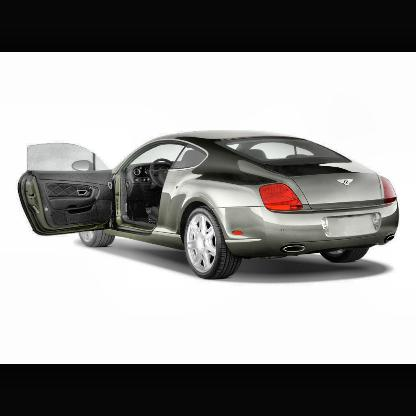Bentley Continental GT Coupe 2007: (19, 135, 399, 281)
